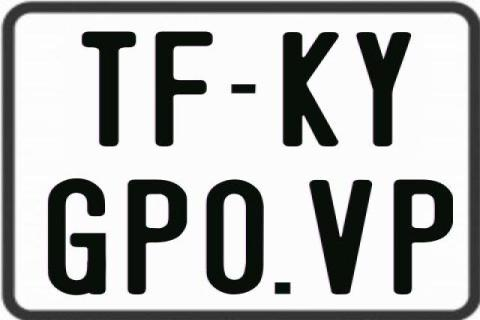0: (203, 180, 265, 300)
F: (152, 29, 210, 149)
G: (45, 177, 104, 296)
K: (282, 30, 342, 150)
P: (391, 179, 455, 296), (126, 177, 186, 297)
T: (80, 30, 138, 148)
V: (306, 179, 375, 295)
Y: (356, 31, 416, 147)
